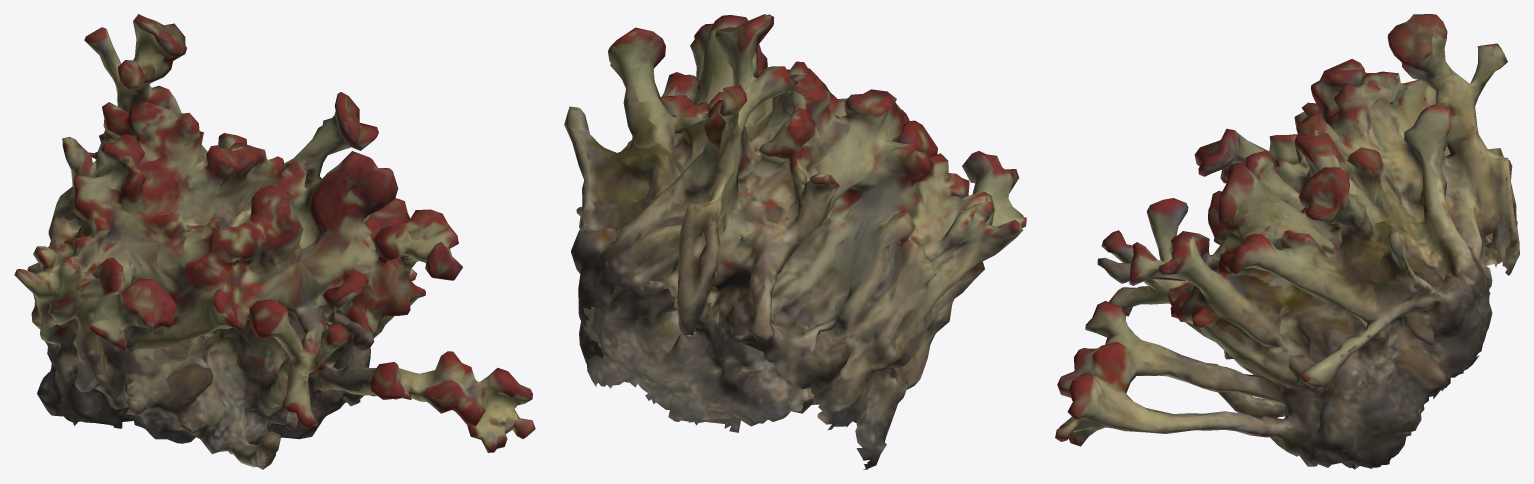
The model's file is BritishSoliderLichen.fbx.
3 views of the same model, side by side, from view 1: azimuth 30°, elevation 25°; view 2: azimuth 150°, elevation 25°; view 3: azimuth 270°, elevation 25° (orthographic). The views are drawn at different scales.
Visible parts, largest first — view 1: Sharp fusion 1; view 2: Sharp fusion 1; view 3: Sharp fusion 1.
Boxes of the visible parts, box(x1,y1,x2,y2) form: Sharp fusion 1: box(14, 14, 535, 469); Sharp fusion 1: box(564, 14, 1026, 469); Sharp fusion 1: box(1055, 14, 1519, 469).
Bounding box in the file's own units: 31.18 × 30.78 × 32.17.
